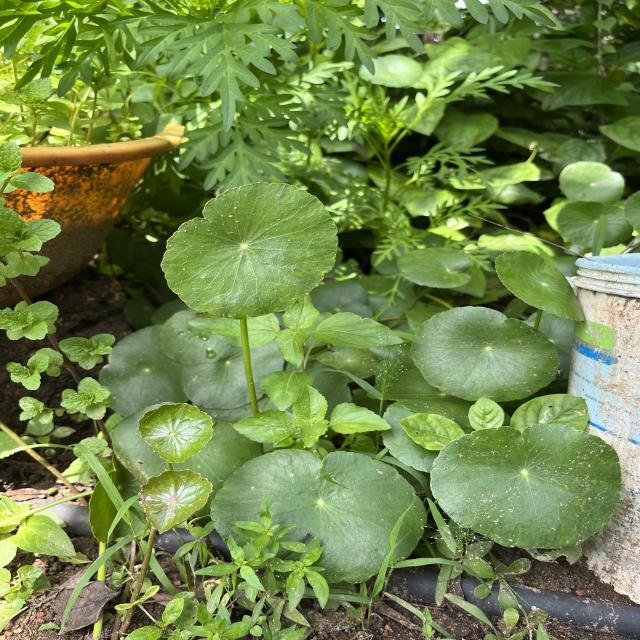Bacopa monnieri: (158, 179, 340, 321), (428, 420, 624, 550), (408, 302, 562, 404), (492, 248, 587, 324), (136, 467, 214, 536), (136, 400, 216, 465)
